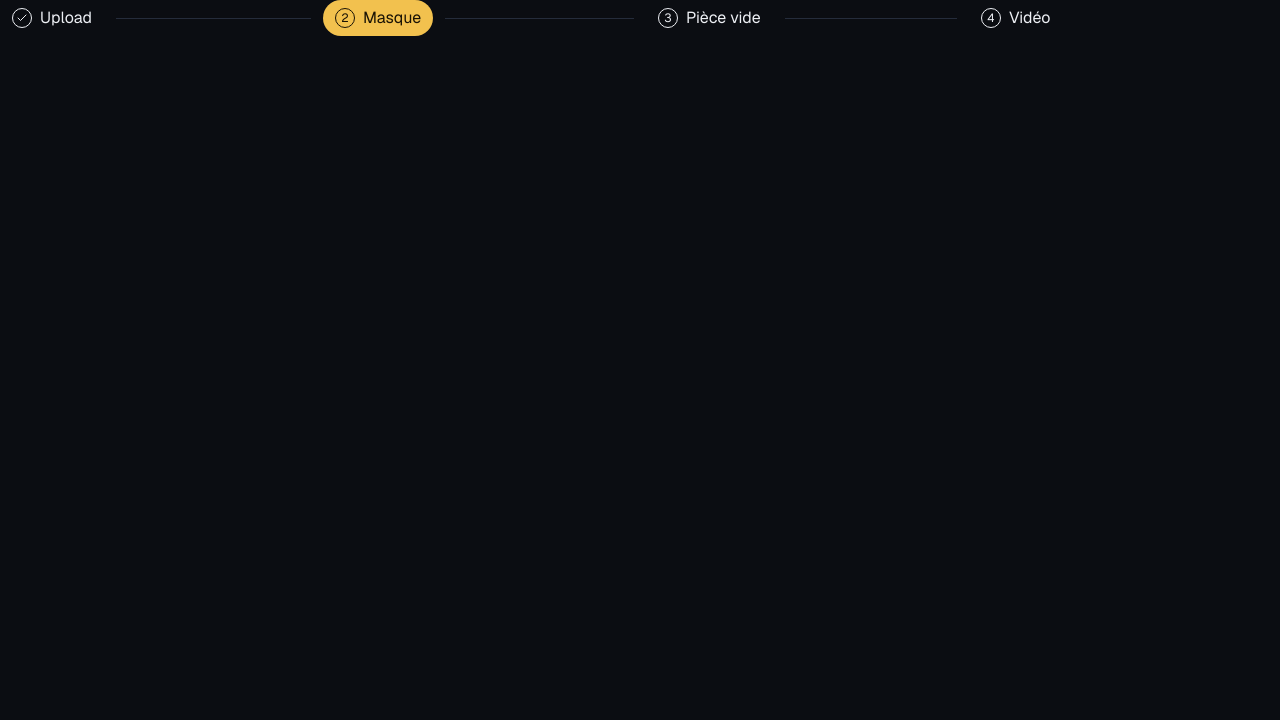
it: Stepper re-advance confirmation (AC3) › opens the confirmation Dialog when re-advancing would discard artifacts
# "Pièce vide" is ahead of current (mask) but still reachable (emptyRoom present).
Click the button "3 Pièce vide": (709, 18) [646, 0, 773, 36]
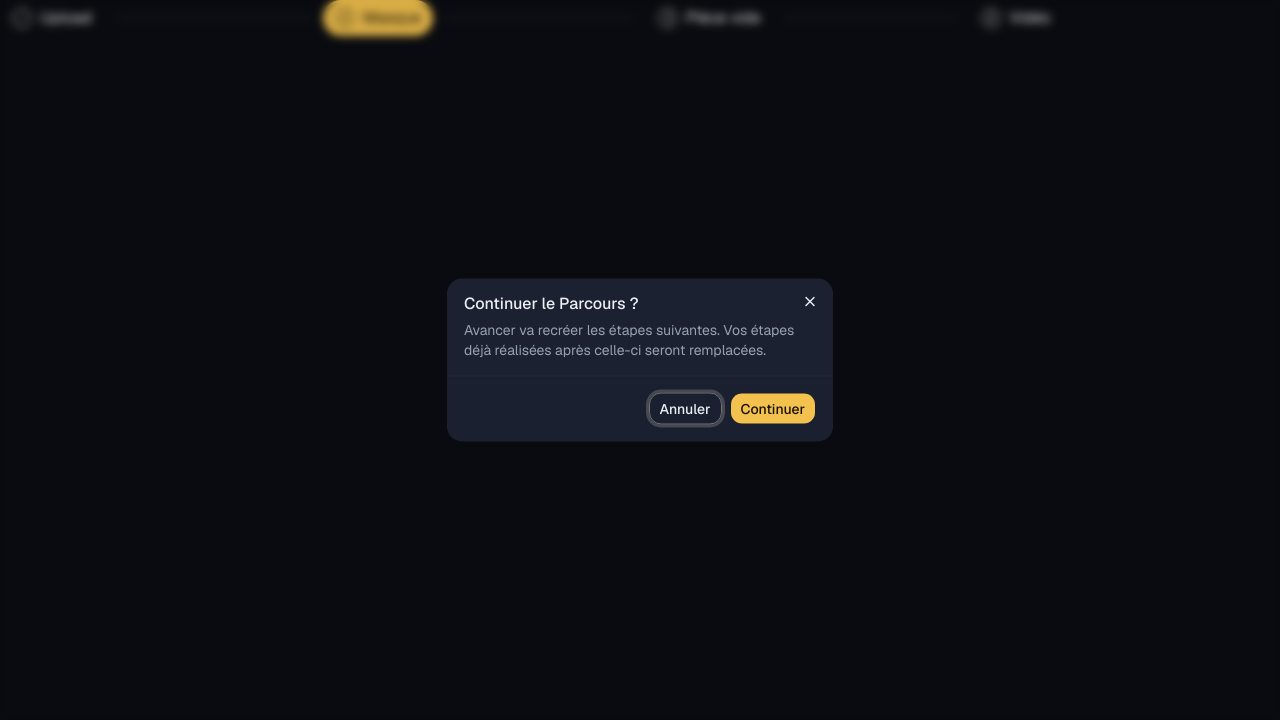
Check: the heading "Continuer le Parcours ?" is shown, box [464, 292, 639, 314]
